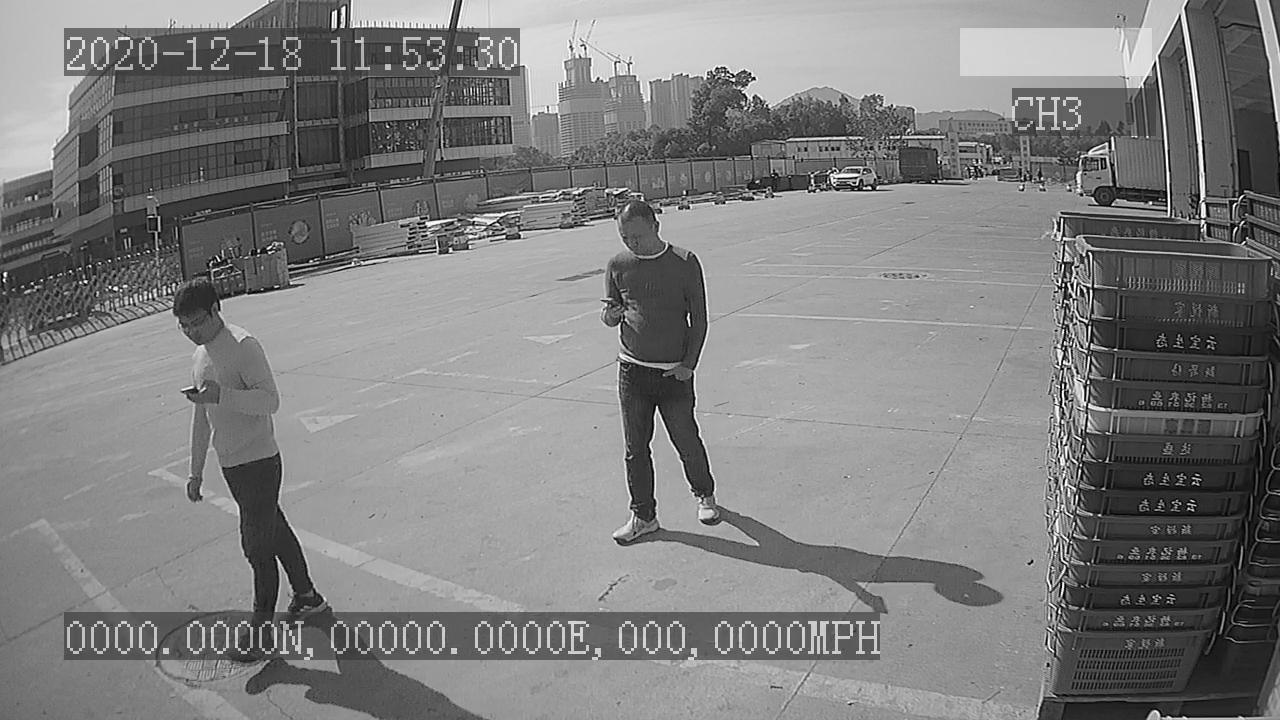person: (588, 197, 733, 551)
